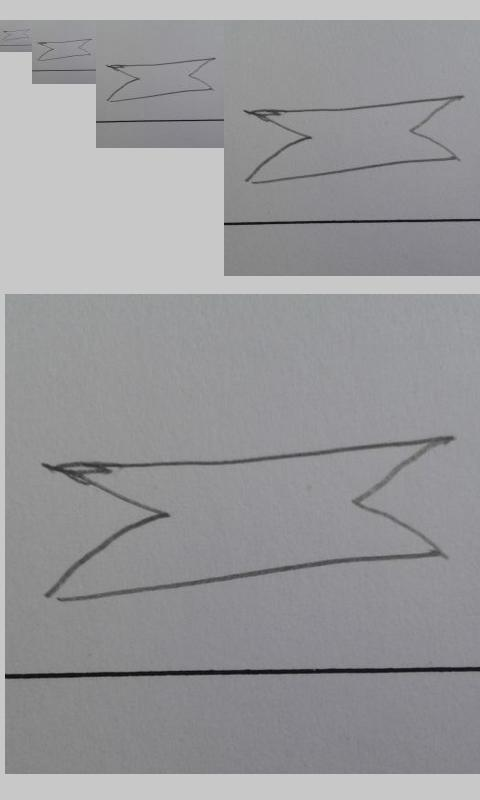edit_text: (39, 437, 448, 602), (242, 95, 463, 184), (106, 58, 216, 102), (37, 38, 92, 61), (3, 28, 30, 41)
